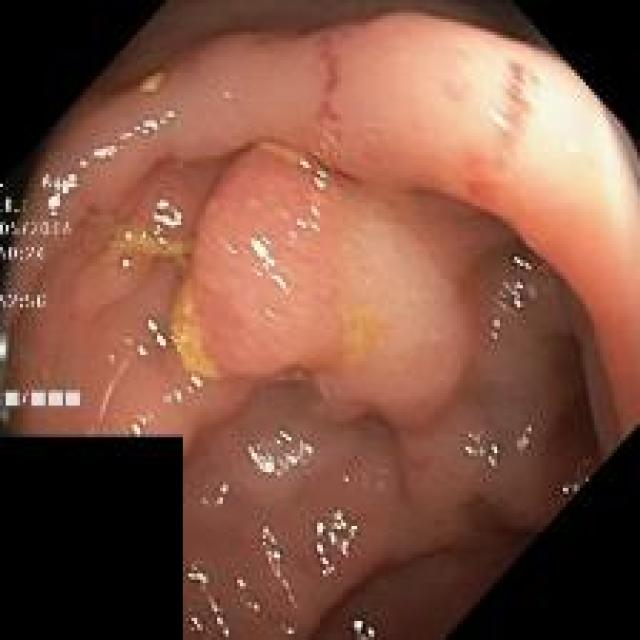Polyps: (176, 143, 514, 429)
